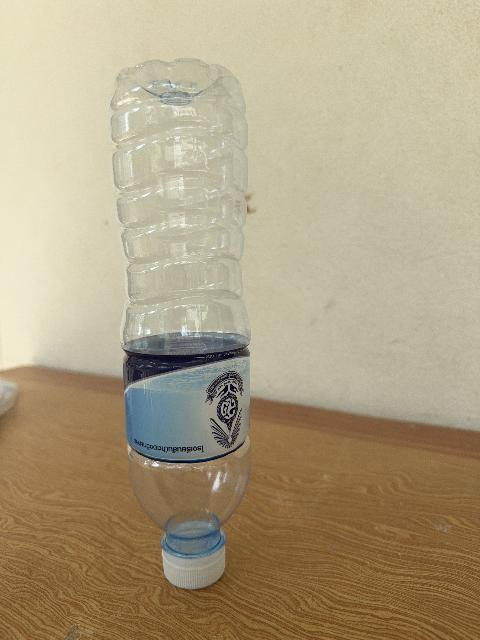bottle: (111, 60, 250, 588)
